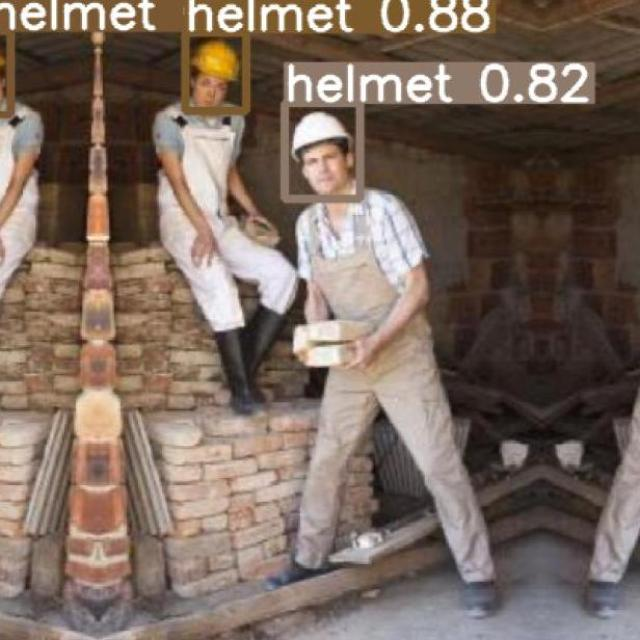white helmet: (285, 107, 362, 171)
yellow helmet: (186, 35, 246, 87)
